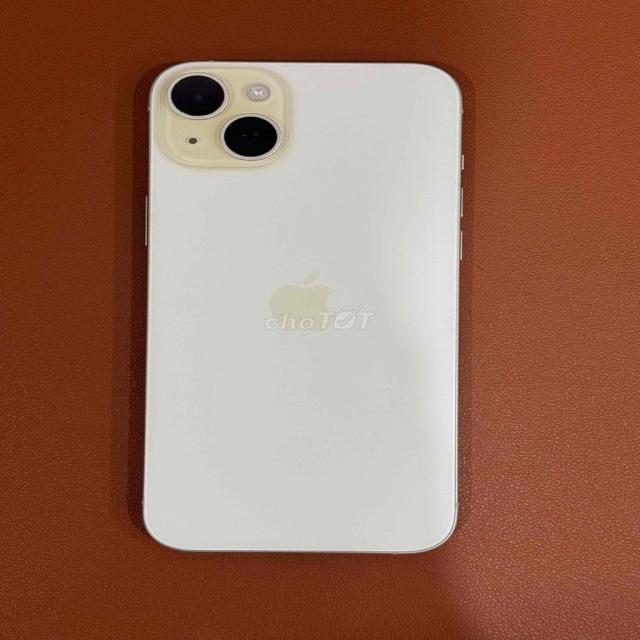gen_15: (140, 46, 467, 578)
